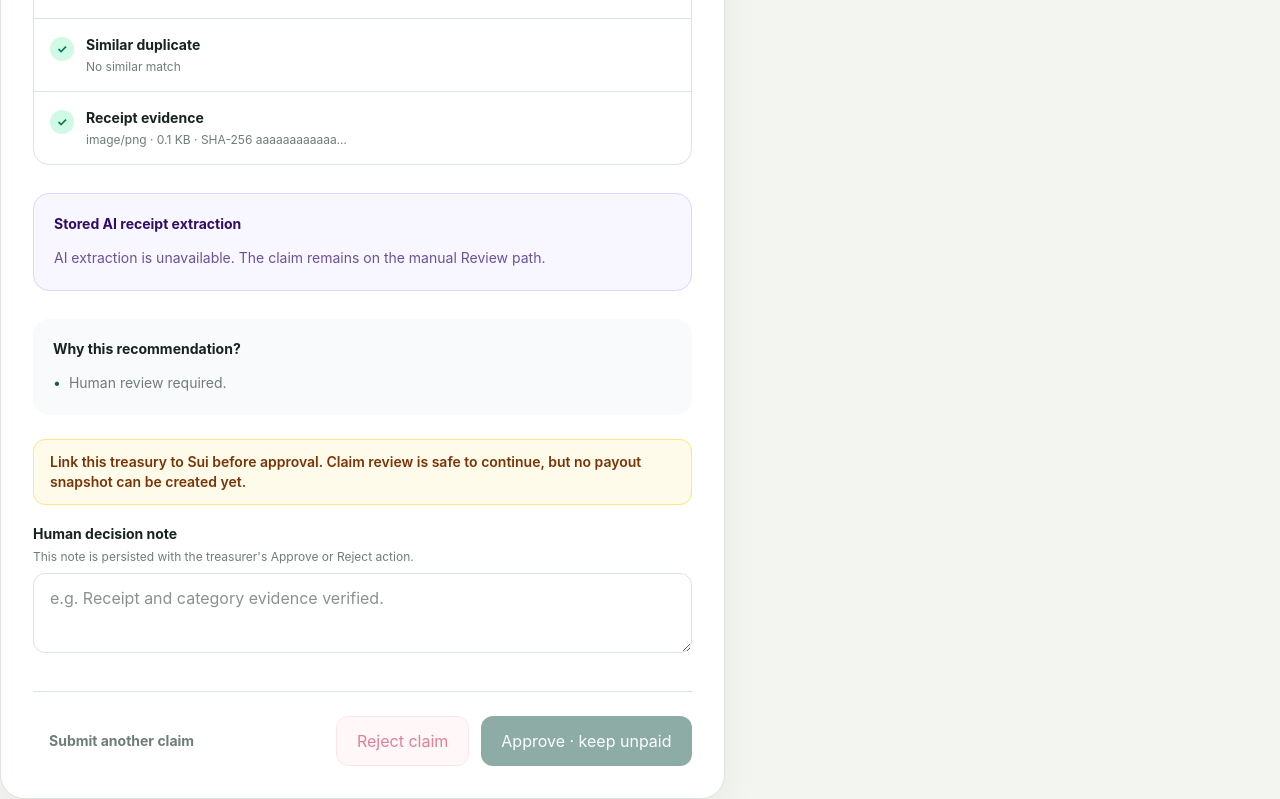
Test: A1 unlinked approval and payment guards › keeps rejection available but disables approval before Sui linking
(page scrolled)
Expected: the text "Link this treasury to Sui before approval" is shown, top-left (50, 452), bottom-right (641, 490)
Type "Receipt checked." into the text box labelled "Human decision note" at (362, 612), box top-left (33, 572), bottom-right (692, 652)
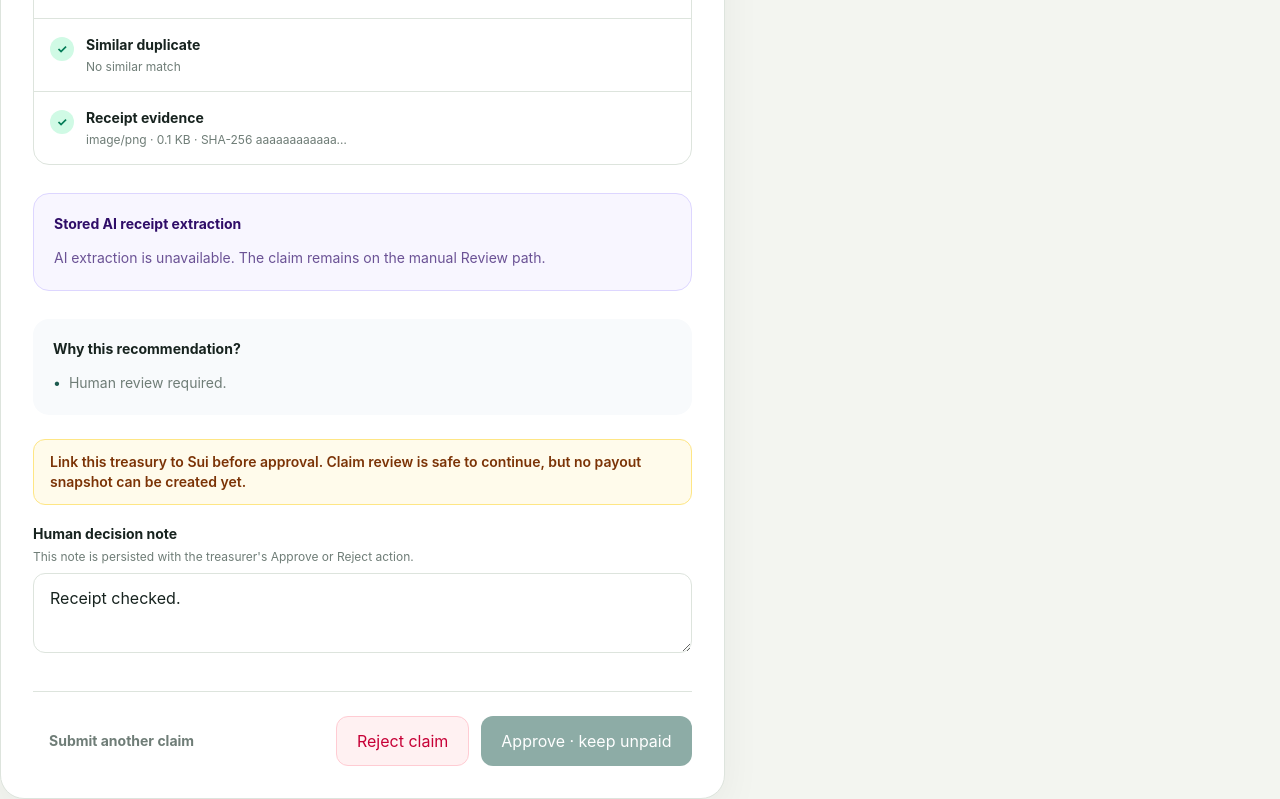
Expected: the button "Approve · keep unpaid" is disabled, top-left (481, 716), bottom-right (692, 766)
Expected: the button "Reject claim" is enabled, top-left (336, 716), bottom-right (469, 766)
